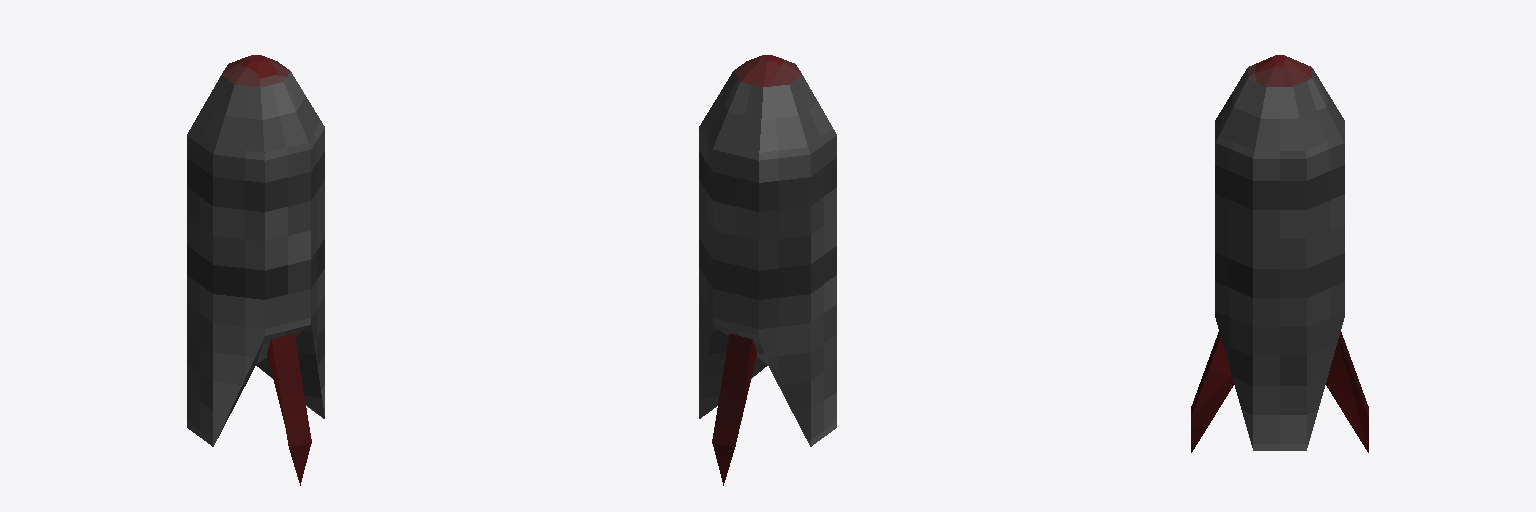
The picture shows the model from 3 angles: view 1: azimuth 30°, elevation 25°; view 2: azimuth 150°, elevation 25°; view 3: azimuth 270°, elevation 25°; orthographic projection.
Parts seen in each view (by area): view 1: cylinder; view 2: cylinder; view 3: cylinder.
Part boxes in pixels (bbox=[...]): cylinder: bbox=[187, 55, 324, 485]; cylinder: bbox=[699, 55, 836, 485]; cylinder: bbox=[1191, 55, 1368, 452].
Bounding box in the file's own units: 0.125 × 0.4226 × 0.1717.
Materials: 1 (1 with a texture image).